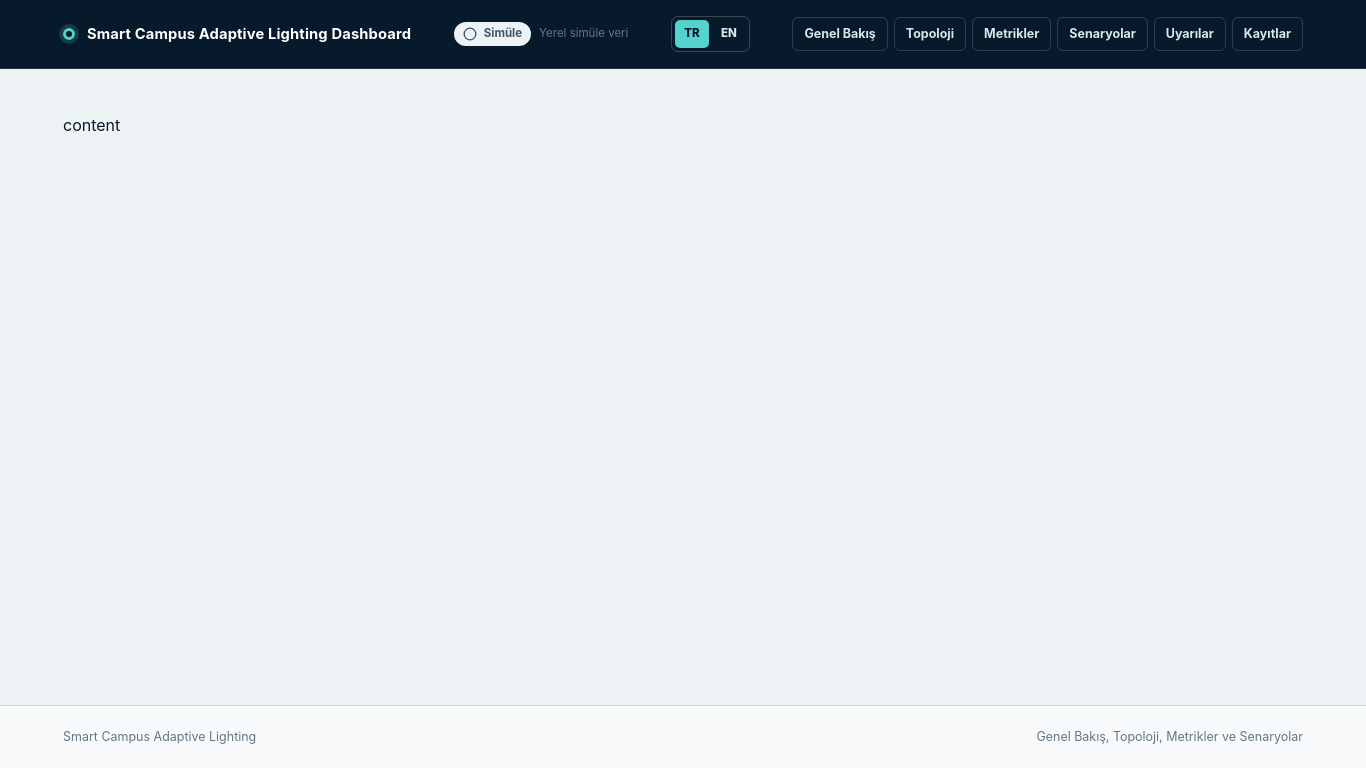
Test: localized dashboard UI › renders accessible Turkish navigation and switches to English
Expected: the navigation bar named "Dashboard navigasyonu" is shown, [792, 17, 1303, 51]
Expected: the link "Genel Bakış" is shown, [792, 17, 888, 51]
Click the button with aria-label "İngilizce": point(729, 34) [712, 20, 746, 48]
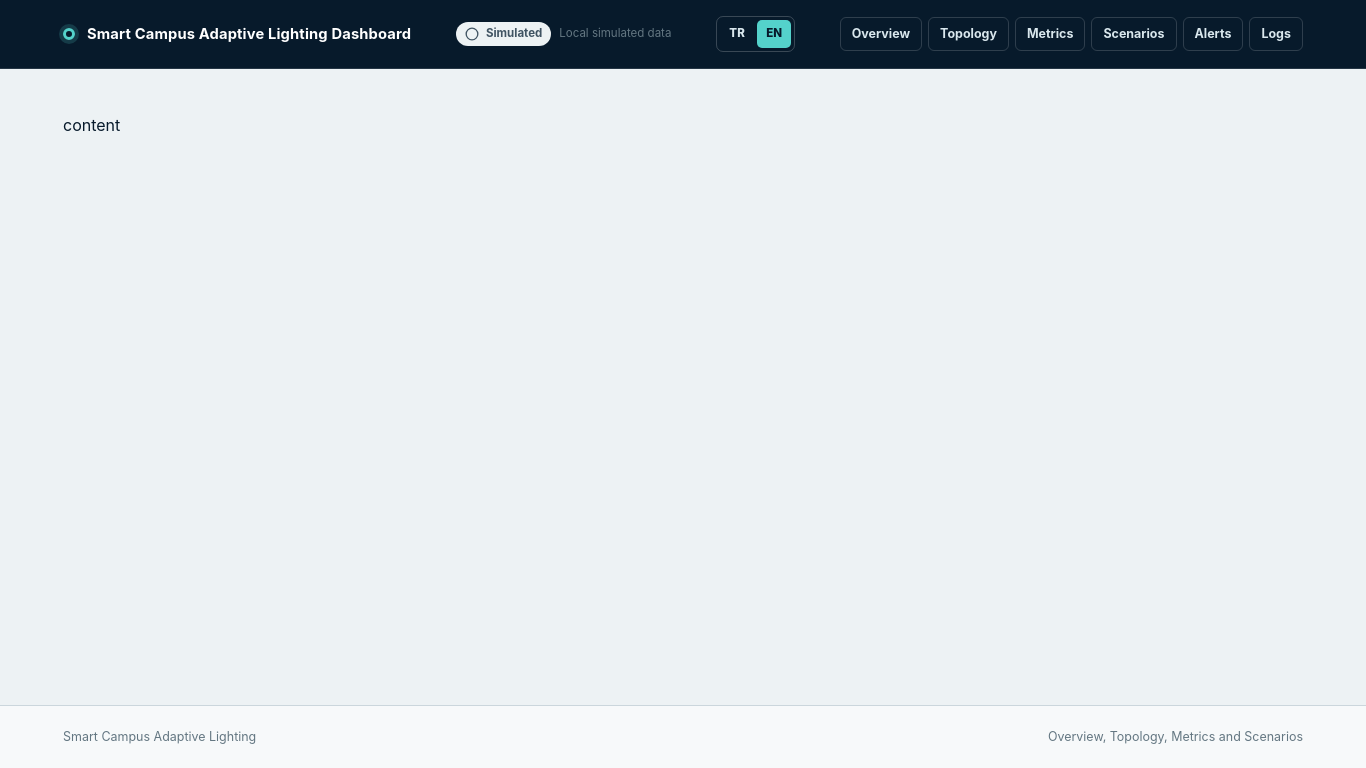
Expected: the link "Overview" is shown, [840, 17, 922, 51]
